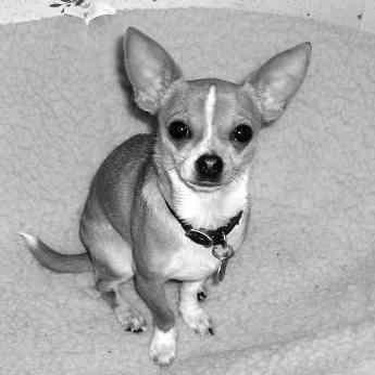dog: (16, 21, 314, 369)
